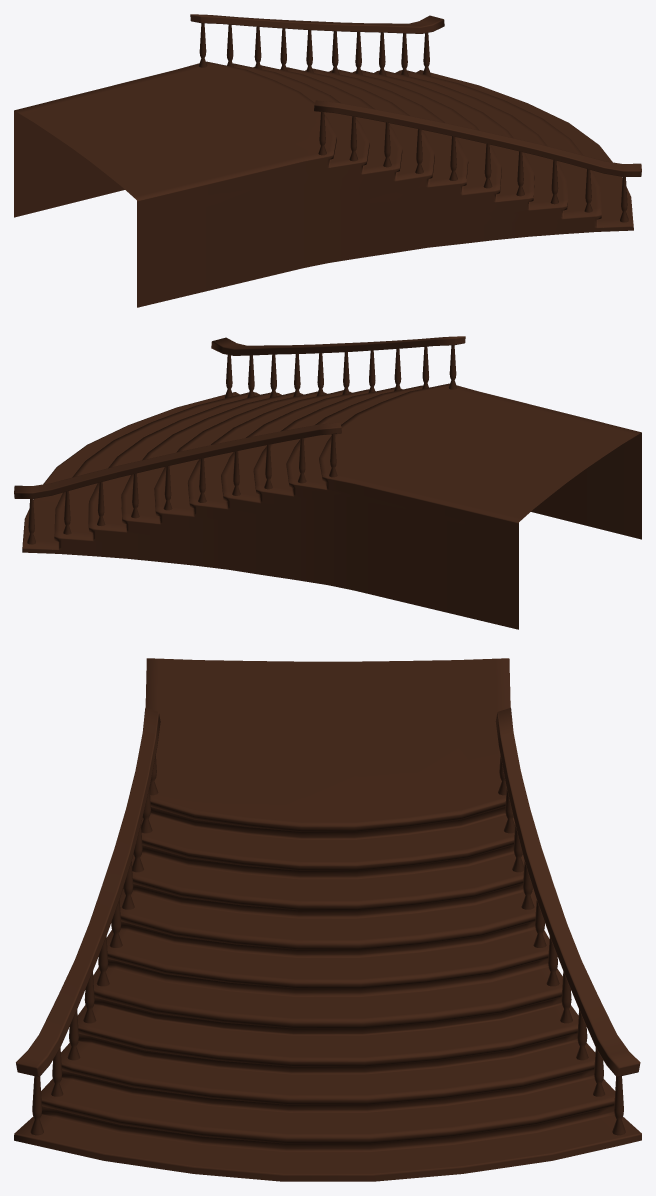
The model's file is main stairs.fbx.
3 renders of one model, top to bottom at view 1: azimuth 30°, elevation 25°; view 2: azimuth 150°, elevation 25°; view 3: azimuth 270°, elevation 25°, orthographic. The views are drawn at different scales.
Visible parts, largest first — view 1: actually stairs, handrail1, Cylinder.002; view 2: actually stairs, handrail1, Cylinder.002; view 3: actually stairs, handrail1, Cylinder.002.
Boxes of the visible parts, x1,y1,x2,y2 form: actually stairs: [14, 61, 633, 307]; handrail1: [190, 14, 641, 176]; Cylinder.002: [199, 23, 628, 222]; actually stairs: [22, 383, 641, 629]; handrail1: [14, 336, 465, 498]; Cylinder.002: [27, 345, 456, 544]; actually stairs: [14, 658, 641, 1181]; handrail1: [16, 707, 640, 1077]; Cylinder.002: [30, 755, 625, 1135].
Size of the model in its own units: 5270 by 1583 by 3825.
